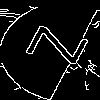Z: (25, 25, 100, 69)
